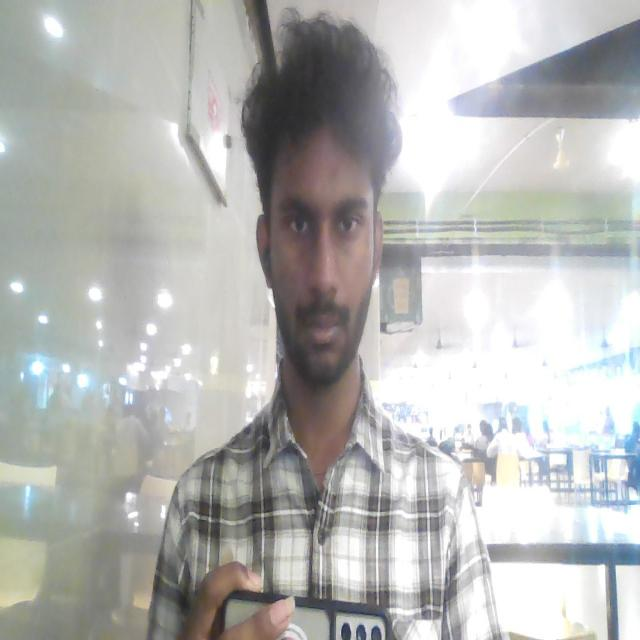phone: (225, 588, 392, 640)
